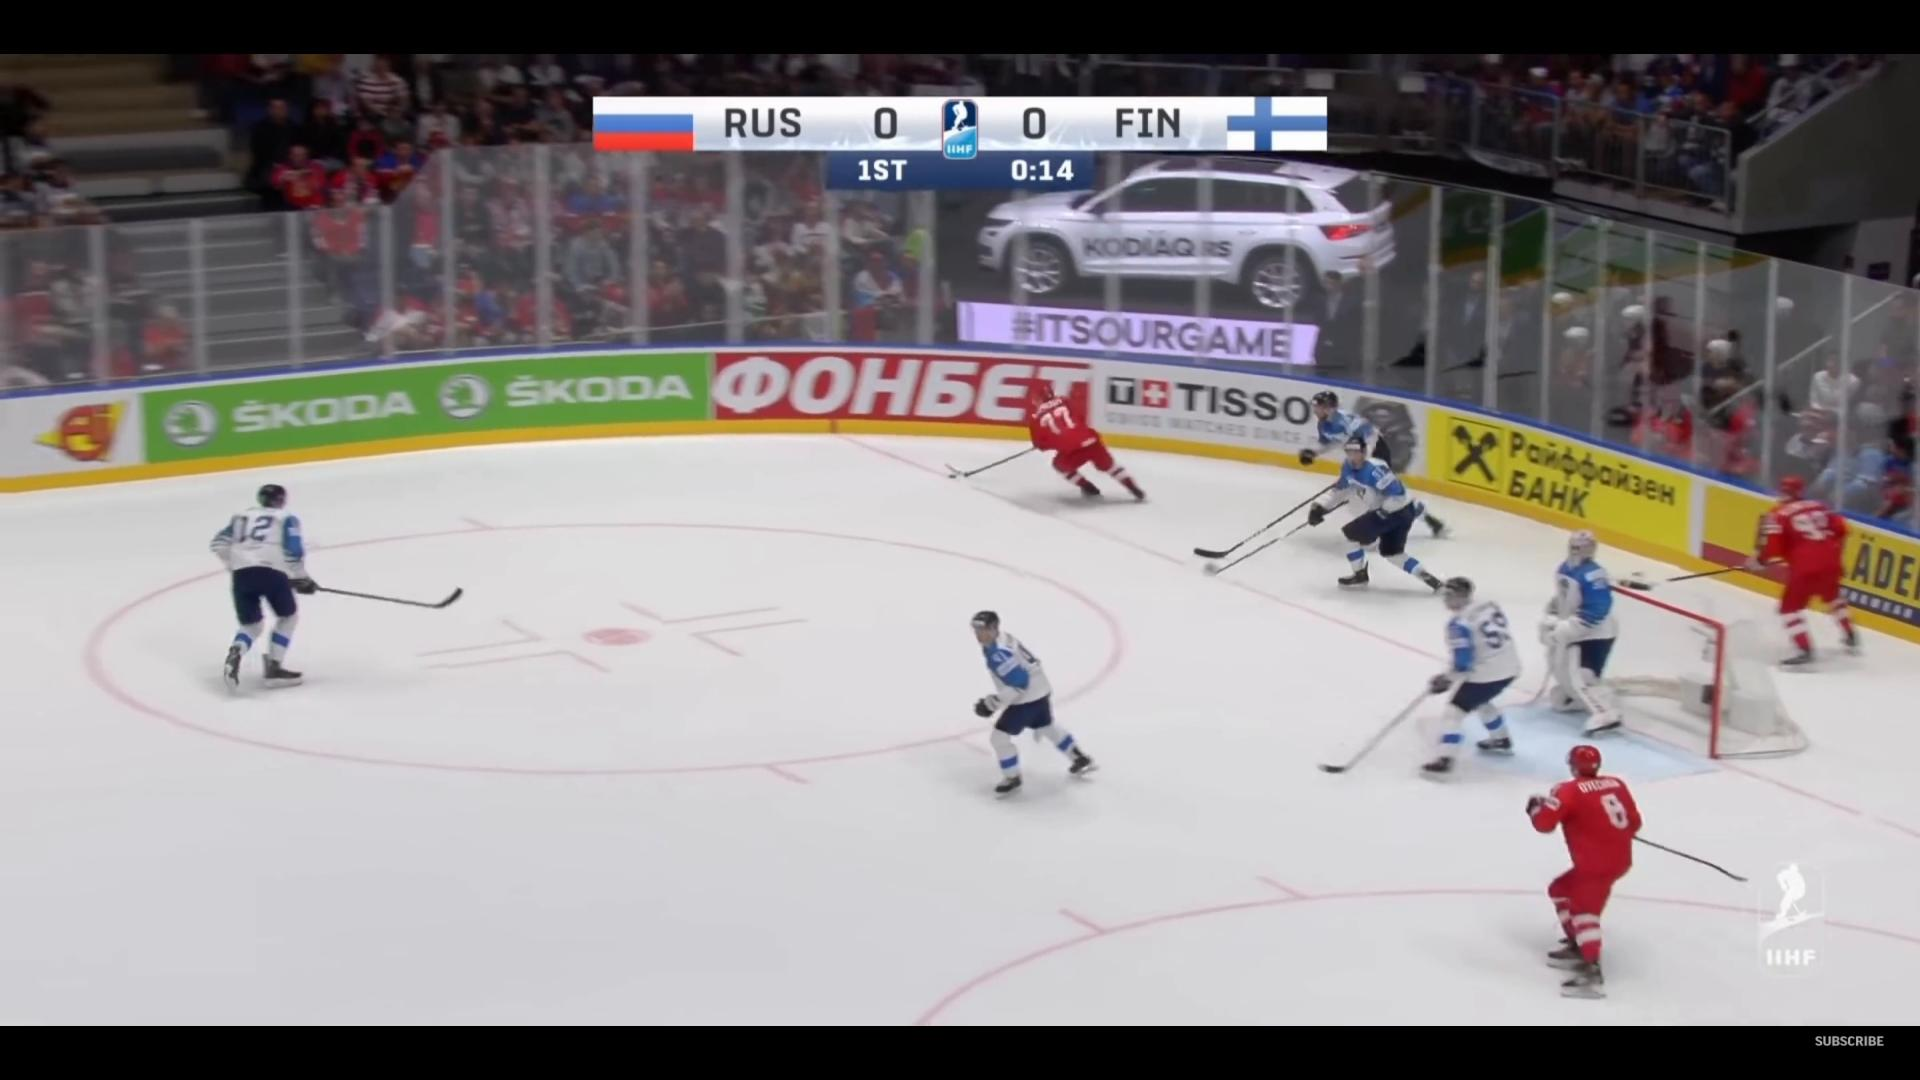puck: (946, 473, 956, 479)
